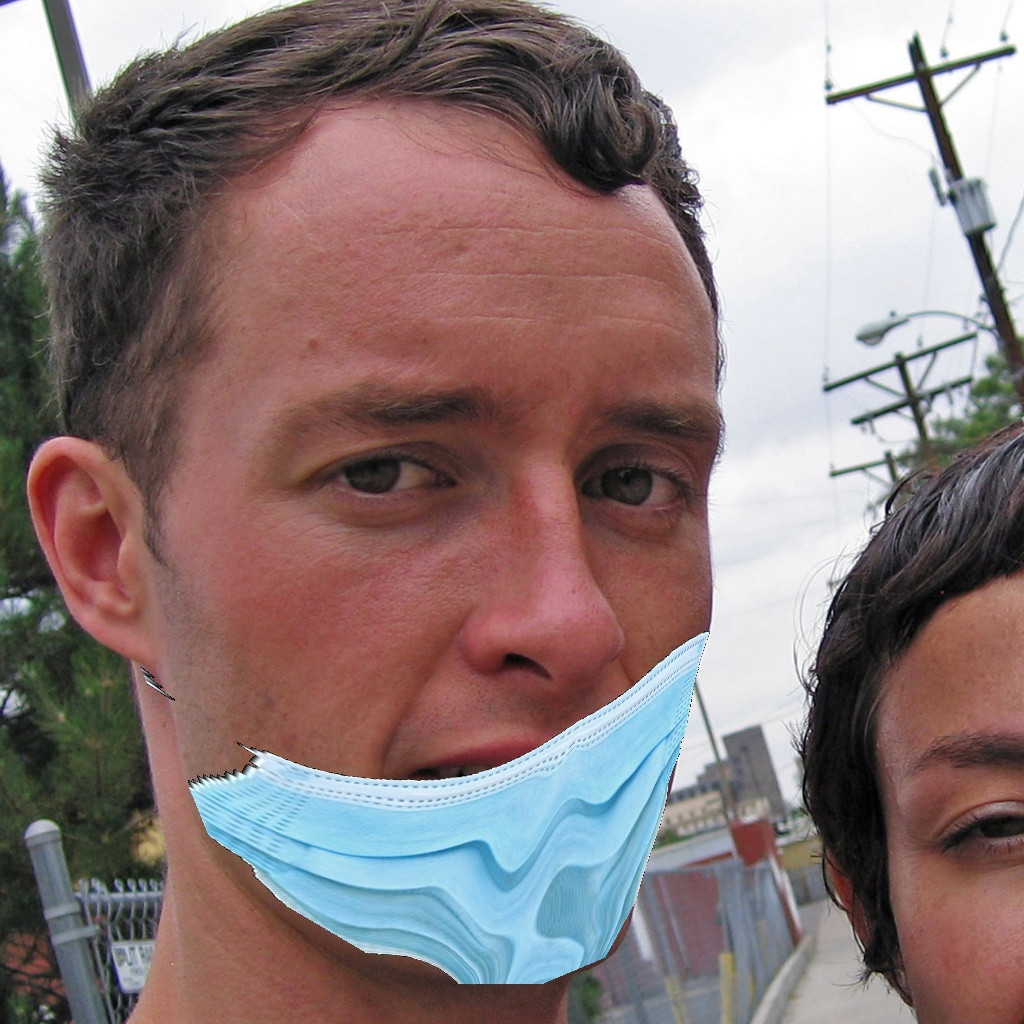mascarilla_mal_puesta: (119, 408, 749, 998)
